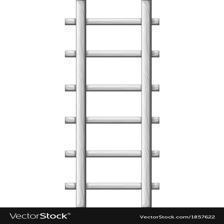Ladder: (69, 7, 156, 215)
